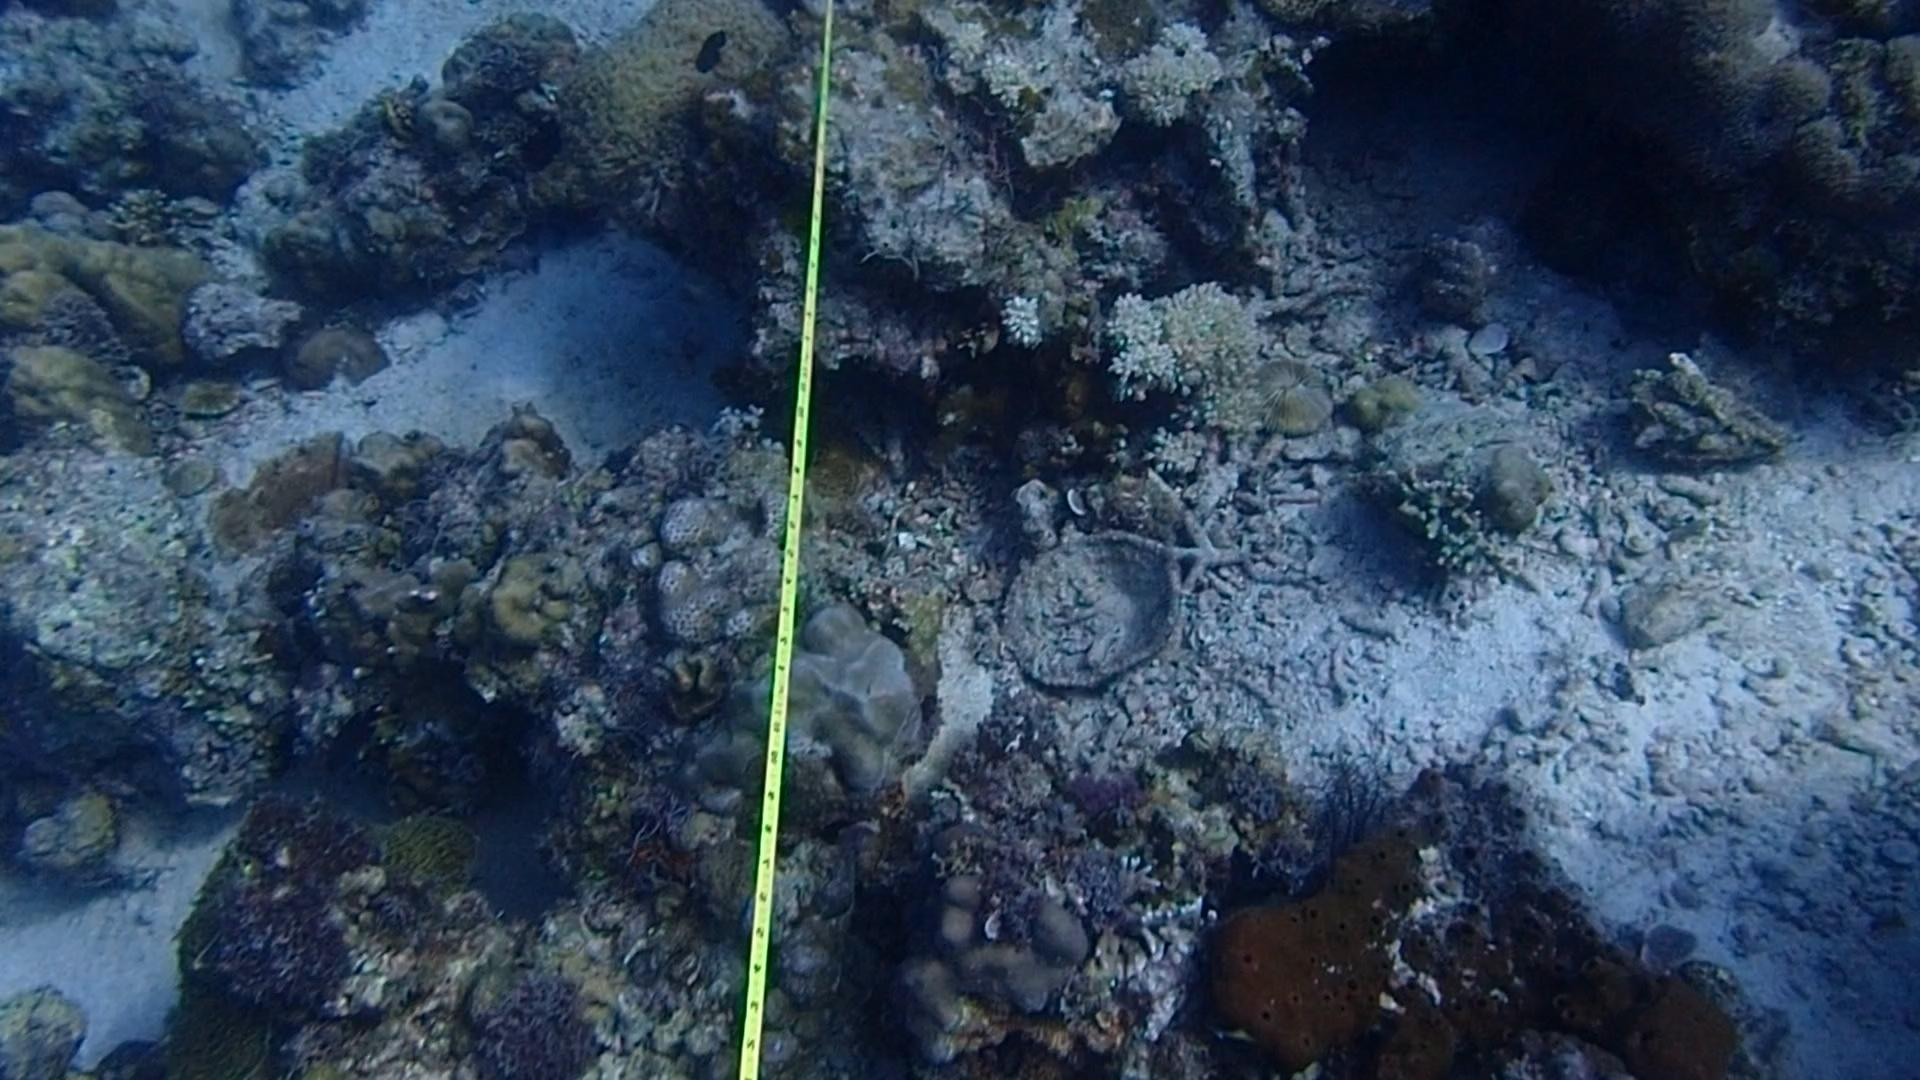Dark Fish: (323, 696, 389, 781), (504, 111, 575, 182), (691, 25, 729, 78)
